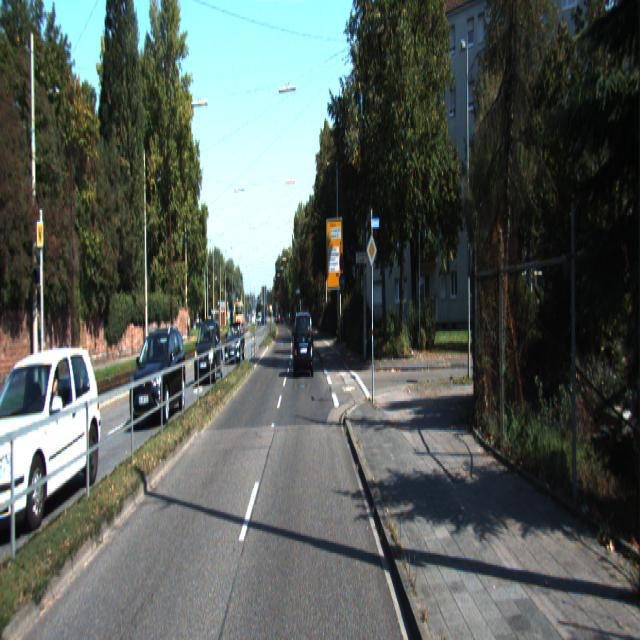Car: (0, 333, 103, 536), (130, 325, 187, 432), (194, 314, 223, 382), (294, 308, 314, 377), (224, 321, 246, 364)
DontCare: (258, 308, 268, 324), (274, 311, 284, 324)
